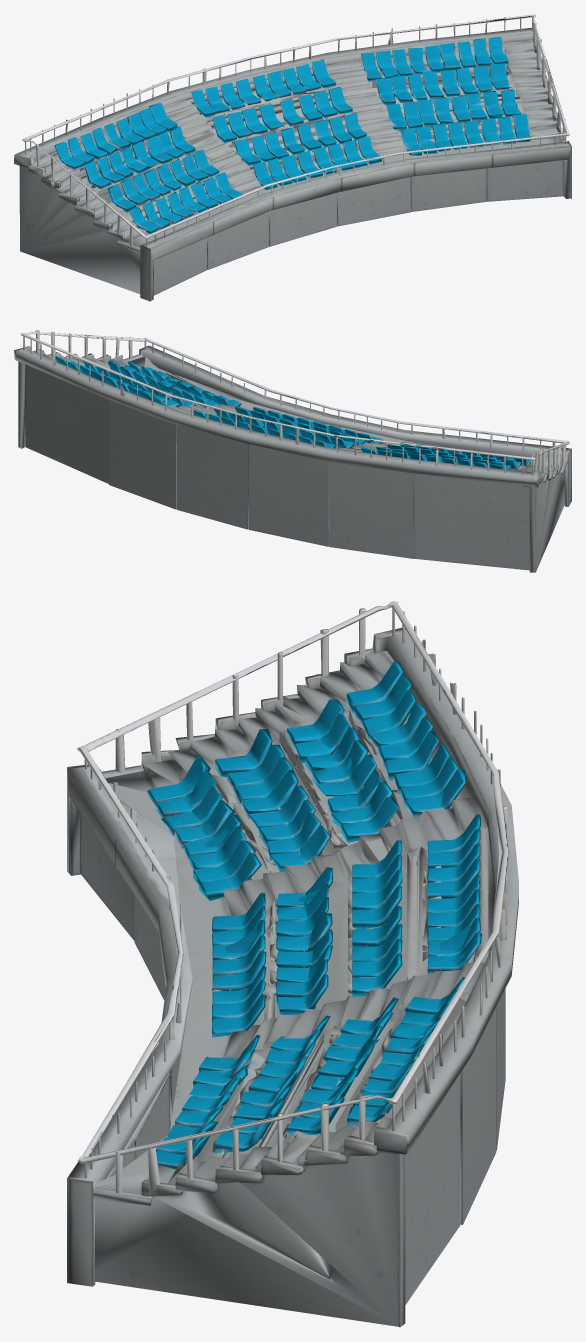
File: grandstand.glb
3 views of the same model, one above another, from view 1: azimuth 30°, elevation 25°; view 2: azimuth 150°, elevation 25°; view 3: azimuth 270°, elevation 25° (orthographic). The views are drawn at different scales.
Visible parts, largest first — view 1: geometry_0; view 2: geometry_0; view 3: geometry_0.
Part boxes in pixels (bbox=[...]): geometry_0: bbox=[14, 14, 571, 301]; geometry_0: bbox=[14, 330, 571, 572]; geometry_0: bbox=[67, 601, 518, 1327].
Bounding box in the file's own units: 0.9546 × 0.1982 × 0.3574.
1 material, 1 textured.
